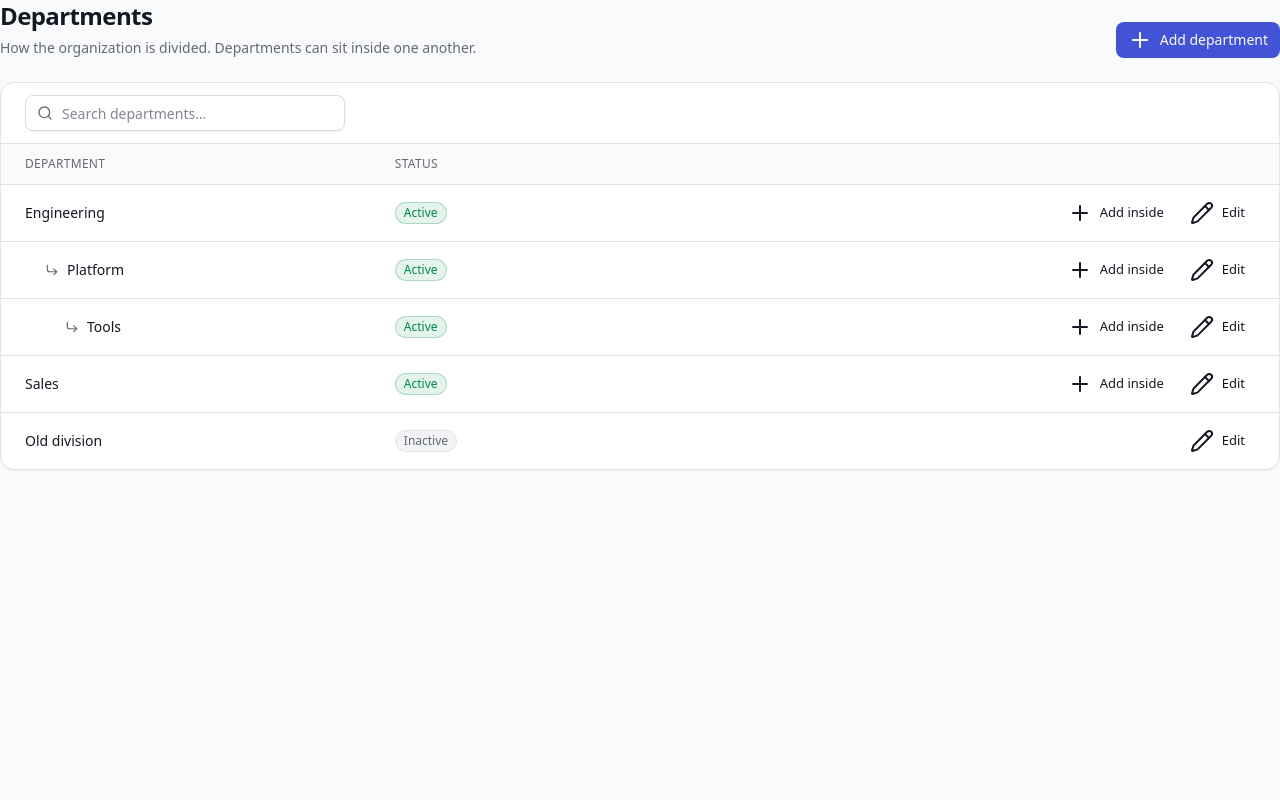
Test case: departments page › retires a department and shows why the API refused
This screenshot has width=1280, height=800.
What coordinates should you click on to do the following:
click the button with aria-label "Edit Engineering"
I would click on:
 (1217, 212)
Its box is top-left (1180, 196), bottom-right (1255, 228).
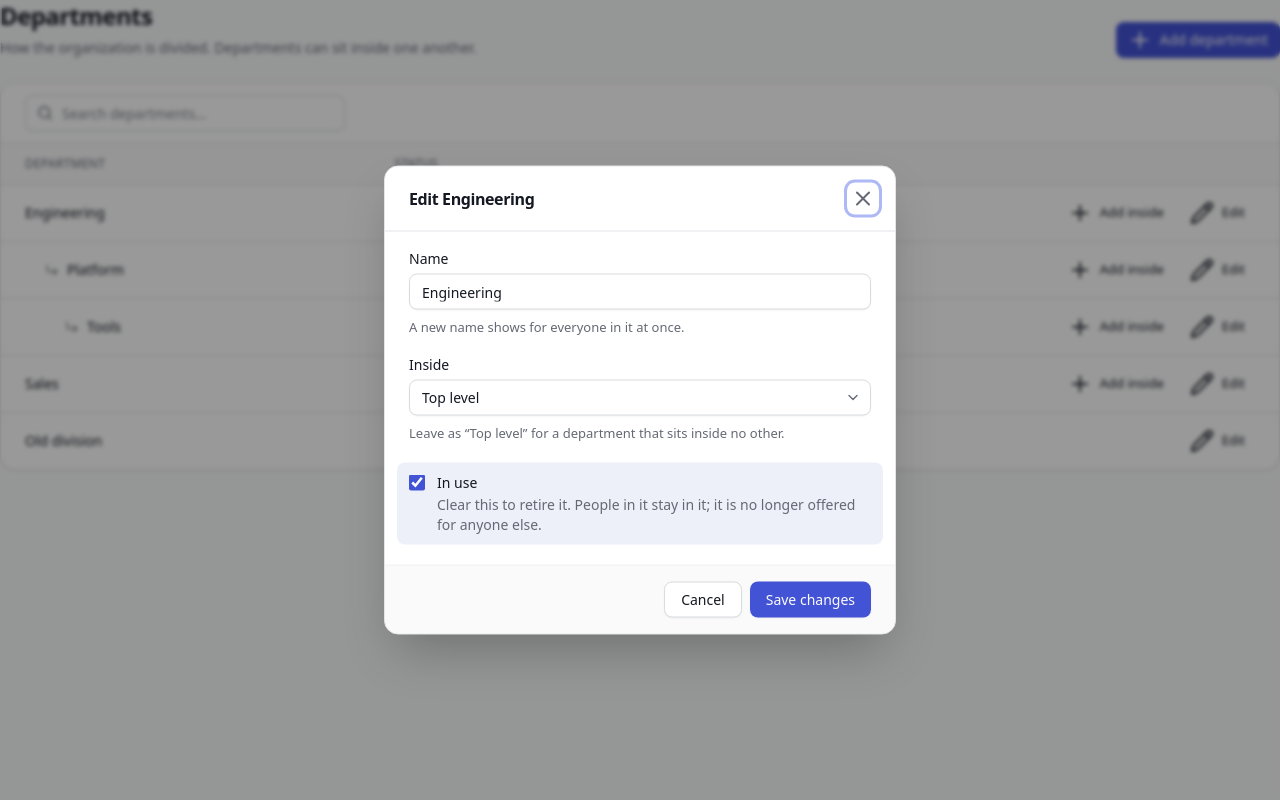
What coordinates should you click on to do the following:
click the checkbox labelled "In use"
I would click on:
 (417, 482)
Its box is top-left (409, 474), bottom-right (425, 490).
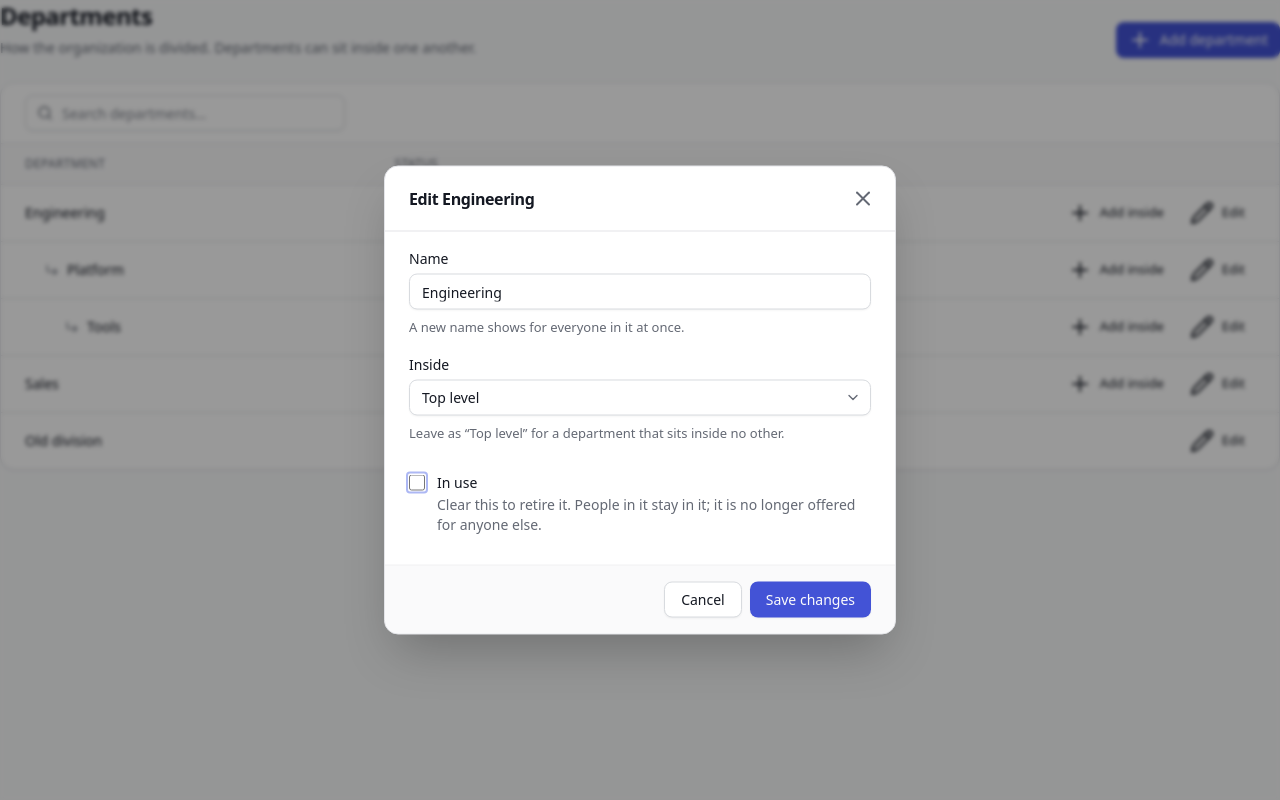
What coordinates should you click on to do the following:
click the button "Save changes"
I would click on:
 (810, 600)
Its box is top-left (750, 582), bottom-right (871, 618).
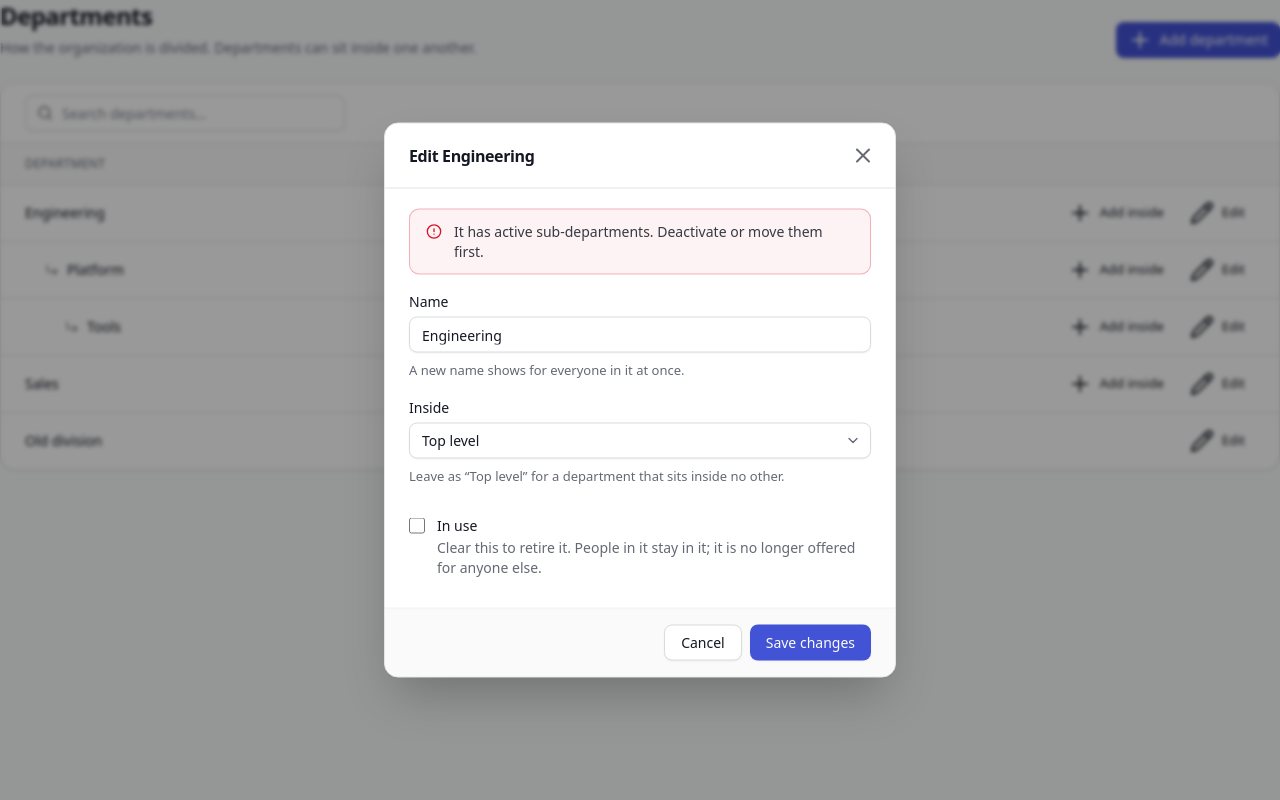
Now the text "It has active sub-departments" is shown, box top-left (454, 222), bottom-right (823, 260)
